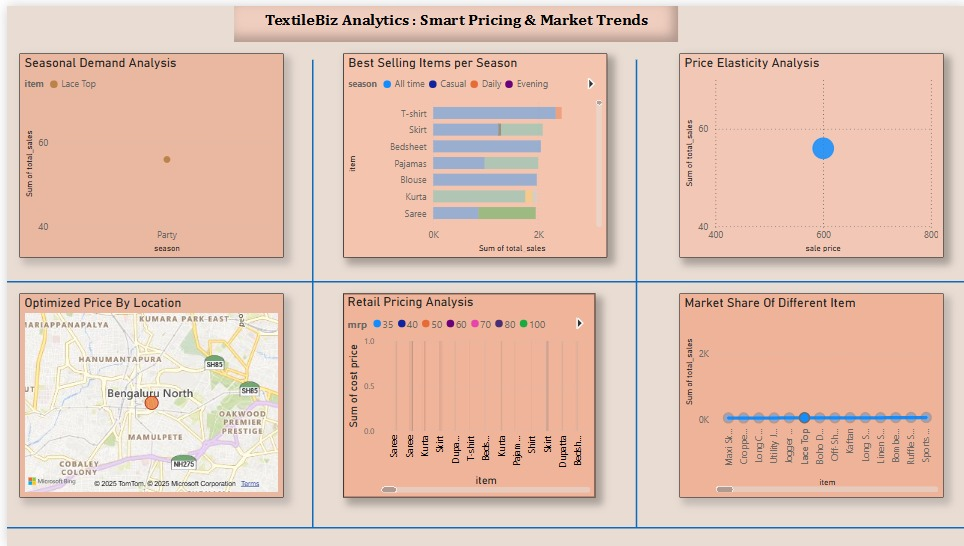

This screenshot's page, from the dashboard's own definition file:
{"tool":"powerbi","page":{"name":"Page 1","canvas":[1280,720],"ordinal":0},"visuals":[{"type":"clusteredColumnChart","title":"Retail Pricing Analysis ","fields":{"Category":["Final_ML_Pricing_Dataset.item"],"Y":["Sum(Final_ML_Pricing_Dataset.cost price)"],"Series":["Final_ML_Pricing_Dataset.mrp"]},"box":[448,384,336,272],"z":0},{"type":"stackedAreaChart","title":"Seasonal Demand Analysis","fields":{"Category":["Final_ML_Pricing_Dataset.season"],"Y":["Sum(Final_ML_Pricing_Dataset.total_sales)"],"Series":["Final_ML_Pricing_Dataset.item"]},"box":[16,64,352,272],"z":1000},{"type":"barChart","title":"Best Selling Items per Season","fields":{"Y":["Sum(Final_ML_Pricing_Dataset.total_sales)"],"Category":["Final_ML_Pricing_Dataset.item"],"Series":["Final_ML_Pricing_Dataset.season"]},"box":[448,64,352,272],"z":2000},{"type":"map","title":"Optimized Price By Location","fields":{"Category":["Final_ML_Pricing_Dataset.location"],"Size":["Sum(Final_ML_Pricing_Dataset.optimized price)"]},"box":[16,384,352,272],"z":3000},{"type":"scatterChart","title":"Price Elasticity Analysis","fields":{"X":["Final_ML_Pricing_Dataset.sale price"],"Y":["Sum(Final_ML_Pricing_Dataset.total_sales)"],"Size":["Sum(Final_ML_Pricing_Dataset.competitor price)"]},"box":[896,64,352,272],"z":4000},{"type":"stackedAreaChart","title":"Market Share Of Different Item ","fields":{"Category":["Final_ML_Pricing_Dataset.item"],"Y":["Sum(Final_ML_Pricing_Dataset.total_sales)"]},"box":[896,384,352,272],"z":5000},{"type":"shape","box":[0,272,1280,192],"z":6000},{"type":"shape","box":[312,72,192,624],"z":7000},{"type":"shape","box":[744,72,192,624],"z":8000},{"type":"shape","box":[0,672,1280,48],"z":9000},{"type":"textbox","box":[304,0,592,48],"z":10000}]}

Visuals, with their boxes in screenshot pixels (x1, y1, x2, y2), scaled from the page's 1280x720 canvas onto the 964x546 screenshot:
"Retail Pricing Analysis " clusteredColumnChart: Rect(337, 291, 590, 497)
"Seasonal Demand Analysis" stackedAreaChart: Rect(12, 49, 277, 255)
"Best Selling Items per Season" barChart: Rect(337, 49, 602, 255)
"Optimized Price By Location" map: Rect(12, 291, 277, 497)
"Price Elasticity Analysis" scatterChart: Rect(675, 49, 940, 255)
"Market Share Of Different Item " stackedAreaChart: Rect(675, 291, 940, 497)
shape: Rect(0, 206, 963, 352)
shape: Rect(235, 55, 380, 528)
shape: Rect(560, 55, 705, 528)
shape: Rect(0, 510, 963, 545)
textbox: Rect(229, 0, 675, 36)
